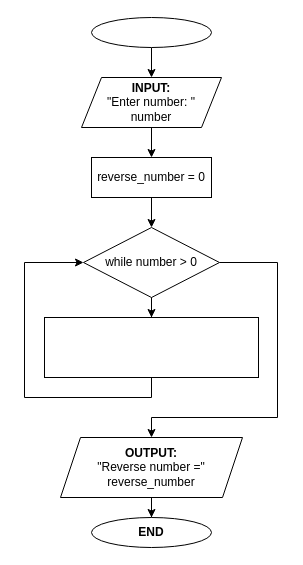
This 303x565 diagram has some shape labels left out. The shapes that lost their labels are listed below. From the top down, each one's centre as x and y in pixels, then its label:
At [151,32]: "BEGIN".
At [151,347]: "reverse_number *= 10 reverse_number += number % 10 number //= 10".
